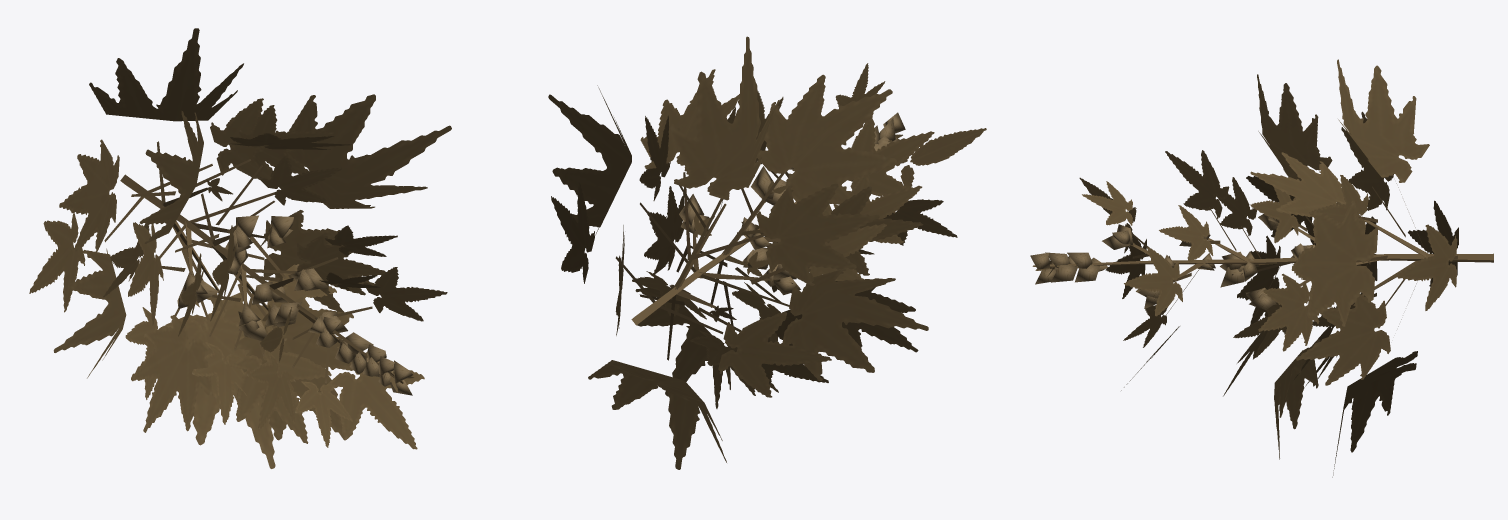
File: p_male_hybrid_flowering_c3_cards.obj
The picture shows the model from 3 angles, left to right: view 1: azimuth 30°, elevation 25°; view 2: azimuth 150°, elevation 25°; view 3: azimuth 270°, elevation 25°; orthographic projection. The views are drawn at different scales.
Bounding box in the file's own units: 1.62 × 1.74 × 1.74.
Materials: 1 (1 with a texture image).
